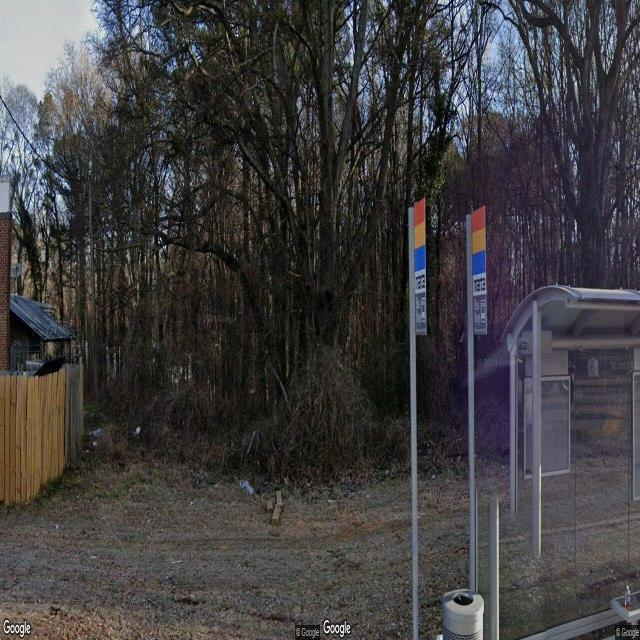seating: (610, 577, 640, 640)
shelter: (501, 281, 640, 640)
trash_can: (441, 588, 484, 640)
